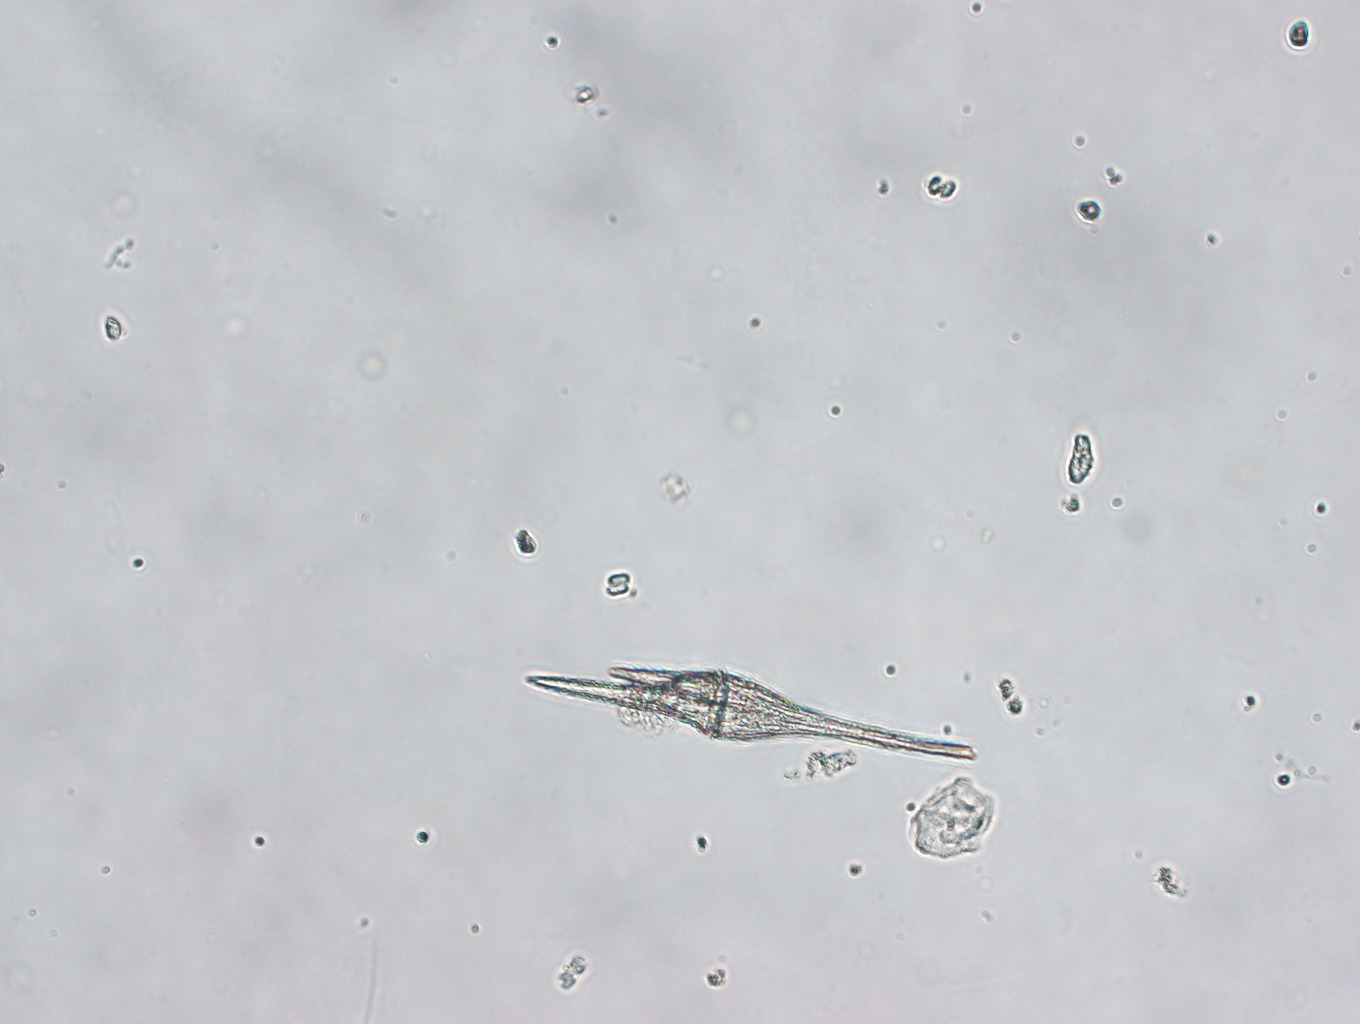ceratium furca: (513, 635, 978, 769)
